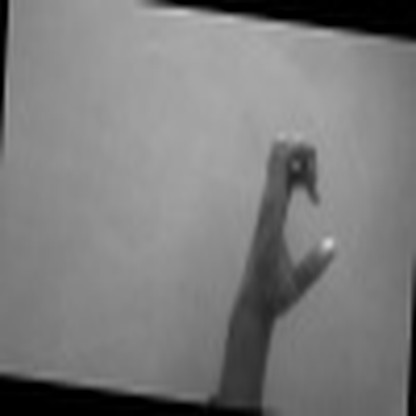c: (245, 131, 346, 316)
